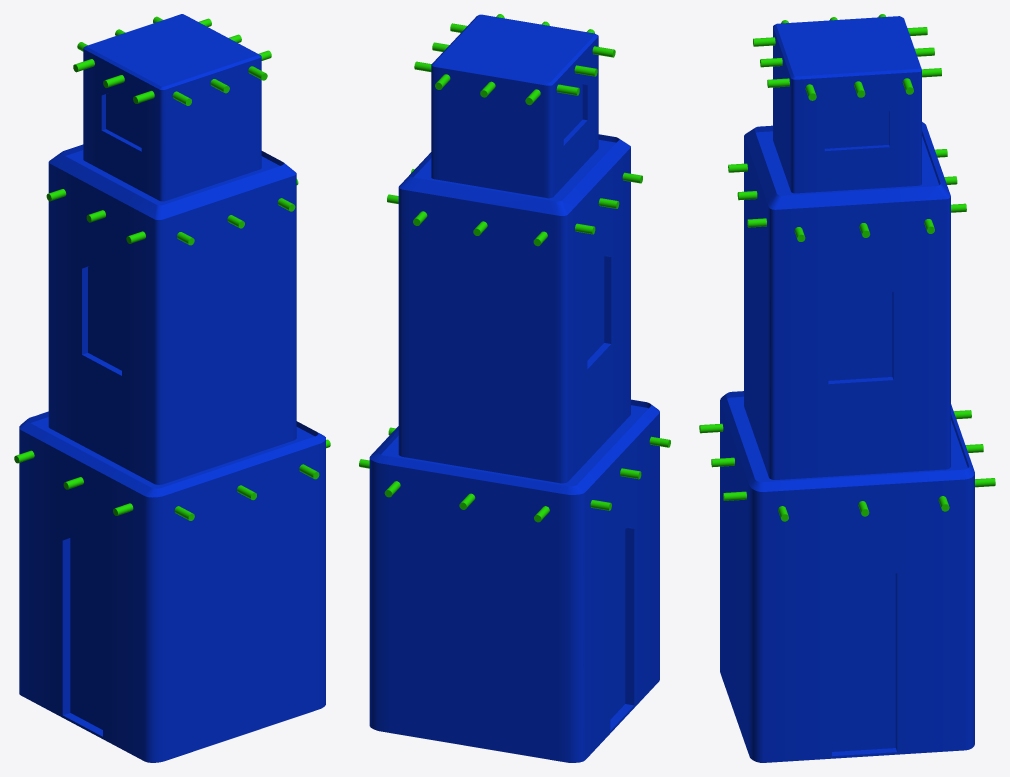
Rendered from tour.fbx.
3 renders of one model, left to right at view 1: azimuth 30°, elevation 25°; view 2: azimuth 150°, elevation 25°; view 3: azimuth 270°, elevation 25°, orthographic. The views are drawn at different scales.
Visible parts, largest first — view 1: Cube.006; view 2: Cube.006; view 3: Cube.006.
Part boxes in pixels (box(x1,y1,x2,y2)): Cube.006: box(14, 14, 330, 762); Cube.006: box(359, 14, 670, 762); Cube.006: box(699, 14, 995, 762).
Bounding box in the file's own units: 679 × 1672 × 679.
